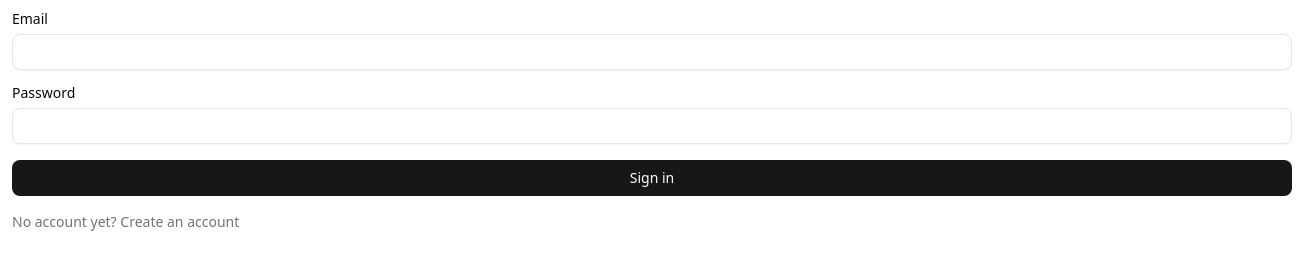
it: LoginForm › shows a validation message when the password is empty
In the field labelled "Email": (652, 52) x1=12 y1=34 x2=1292 y2=70, type "trader@example.com"
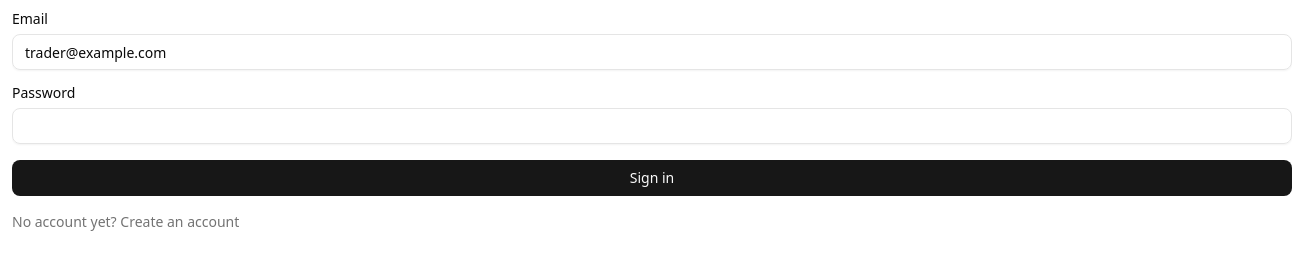
Click the button "Sign in": (652, 178) x1=12 y1=160 x2=1292 y2=196
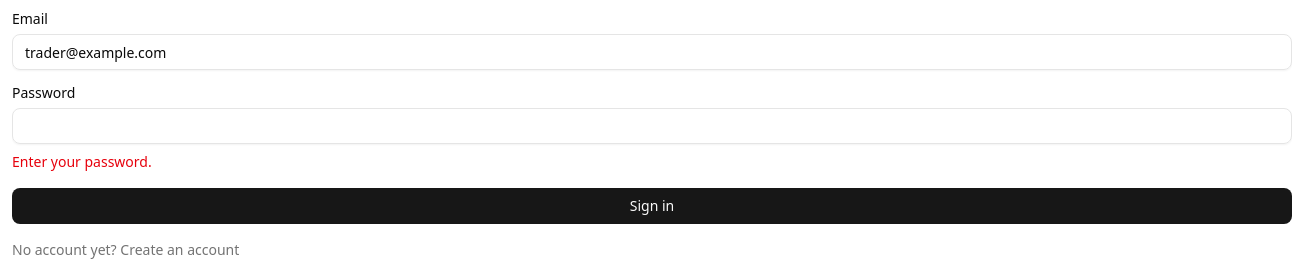
Expected: the message reads "Enter your password.", x1=12 y1=152 x2=152 y2=171
